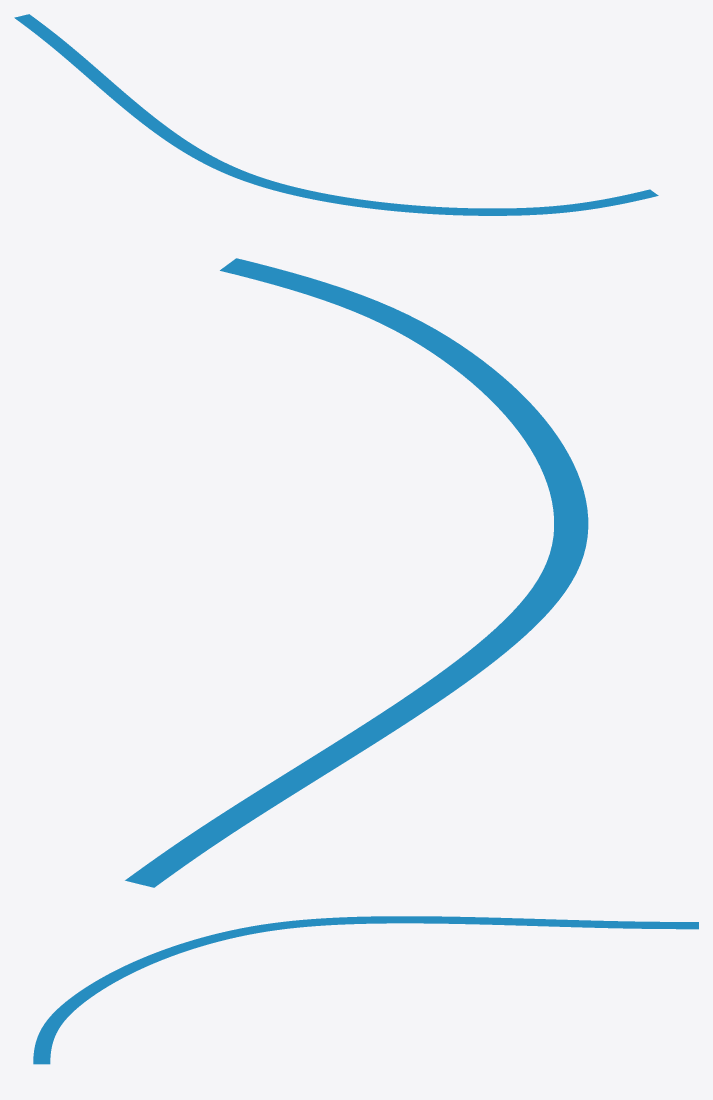
The model's file is guide.glb.
The picture shows the model from 3 angles, top to bottom: view 1: azimuth 30°, elevation 25°; view 2: azimuth 150°, elevation 25°; view 3: azimuth 270°, elevation 25°; orthographic projection. The views are drawn at different scales.
Visible parts, largest first — view 1: static; view 2: static; view 3: static.
Boxes of the visible parts, box(x1,y1,x2,y2) form: static: box(14, 14, 658, 215); static: box(125, 258, 588, 887); static: box(33, 916, 698, 1064).
Size of the model in its own units: 7.52 by 0 by 12.83.
